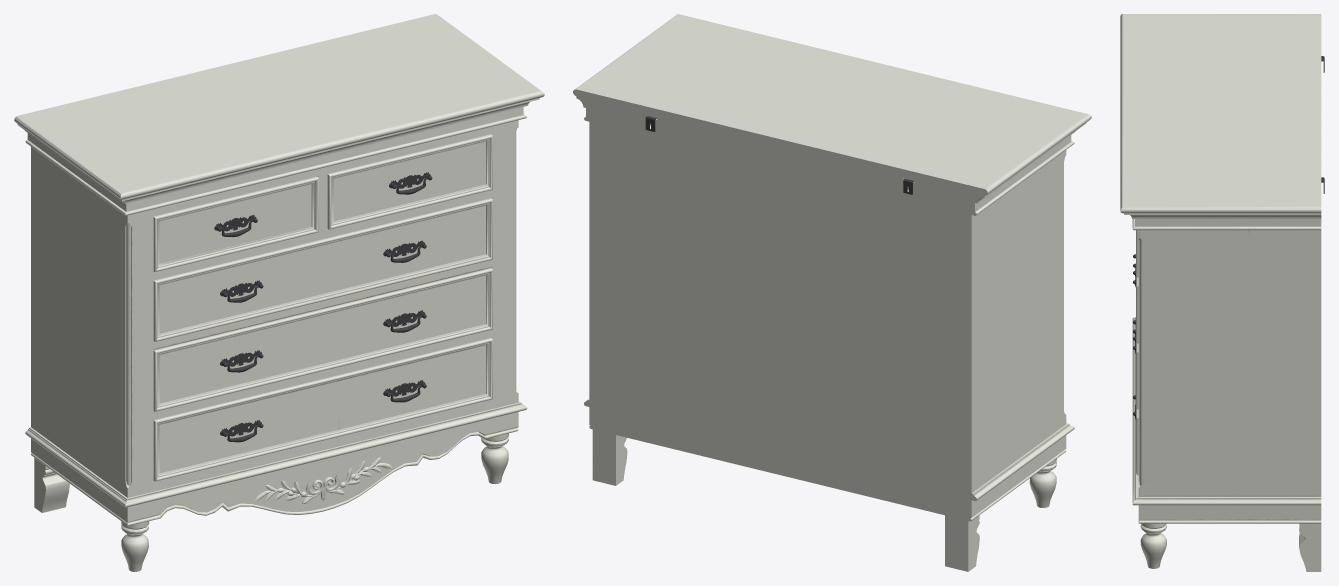
The model's file is example169.gltf.
3 renders of one model, left to right at view 1: azimuth 30°, elevation 25°; view 2: azimuth 150°, elevation 25°; view 3: azimuth 270°, elevation 25°, orthographic. The views are drawn at different scales.
Size of the model in its own units: 115 by 103 by 50.8.
Materials: 2 (2 with a texture image).
